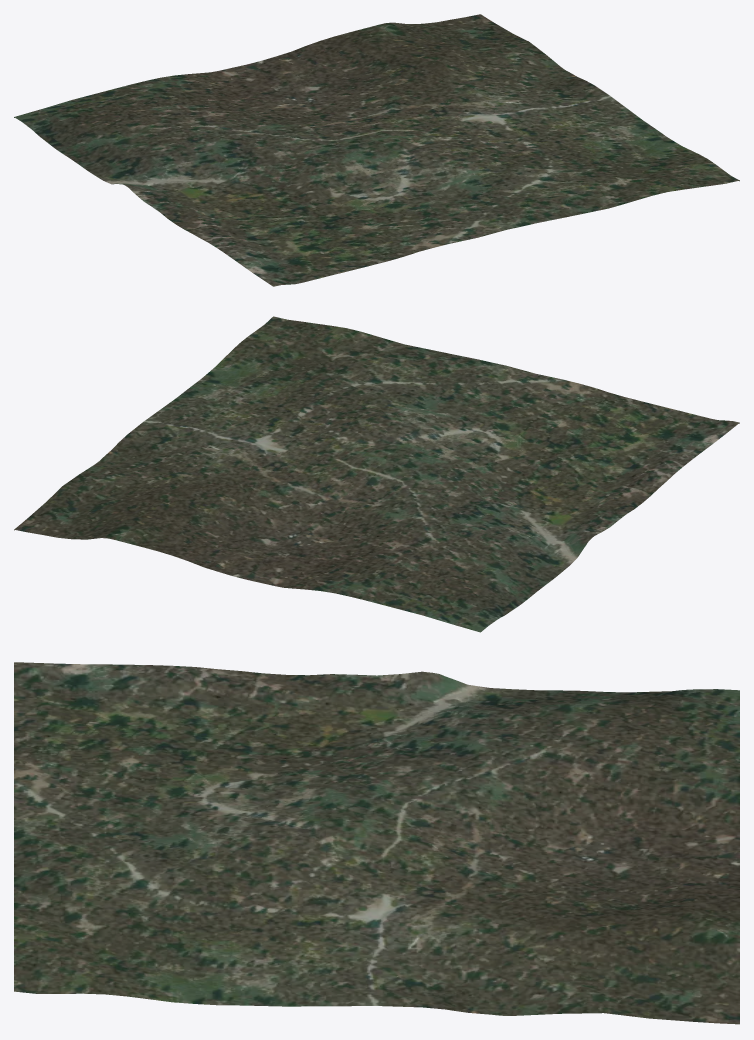
3 renders of one model, top to bottom at view 1: azimuth 30°, elevation 25°; view 2: azimuth 150°, elevation 25°; view 3: azimuth 270°, elevation 25°, orthographic. The views are drawn at different scales.
Bounding box in the file's own units: 500 × 33.6 × 481.
1 material, 1 textured.
